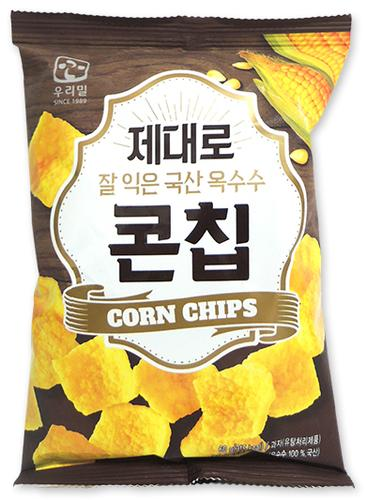snack: (11, 8, 353, 492)
